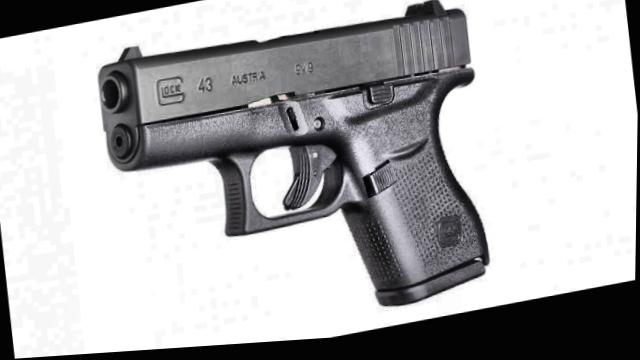pistol: (88, 0, 501, 355)
